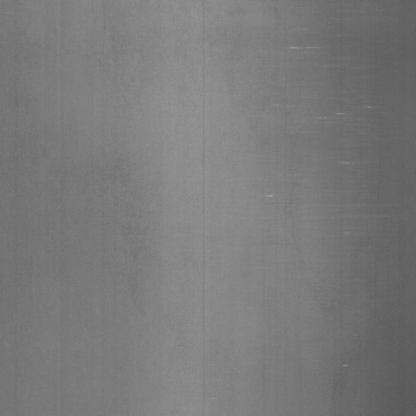waist_folding: (206, 39, 389, 302)
